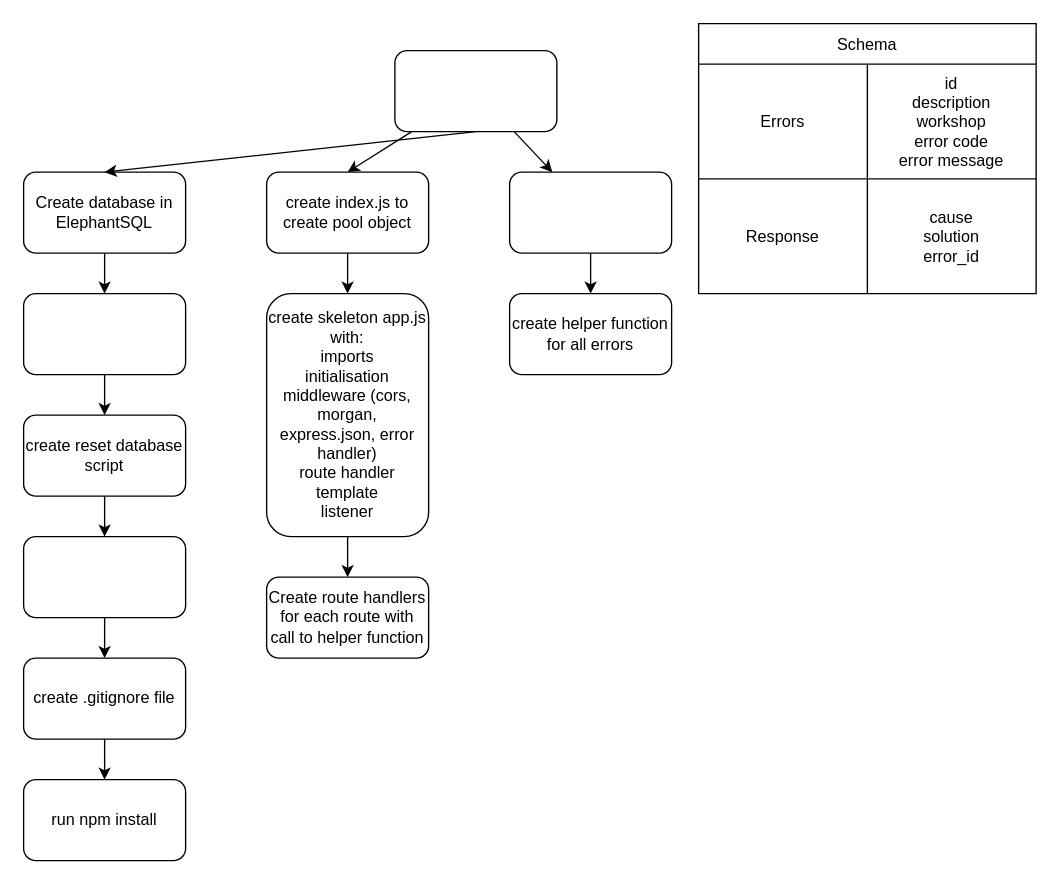
The diagram is 1060 pixels wide and 884 high, and some of its shapes have lost their labels. The shapes that lost their labels are listed below. From the top down, each one's box as (x1, y1, x2, y2) in pixels, then its label:
(394, 49, 557, 132): Sprint 1 Setup
(508, 171, 672, 253): Create the helper functions
(22, 292, 186, 375): run npm init -y
(22, 535, 186, 618): create .env file
